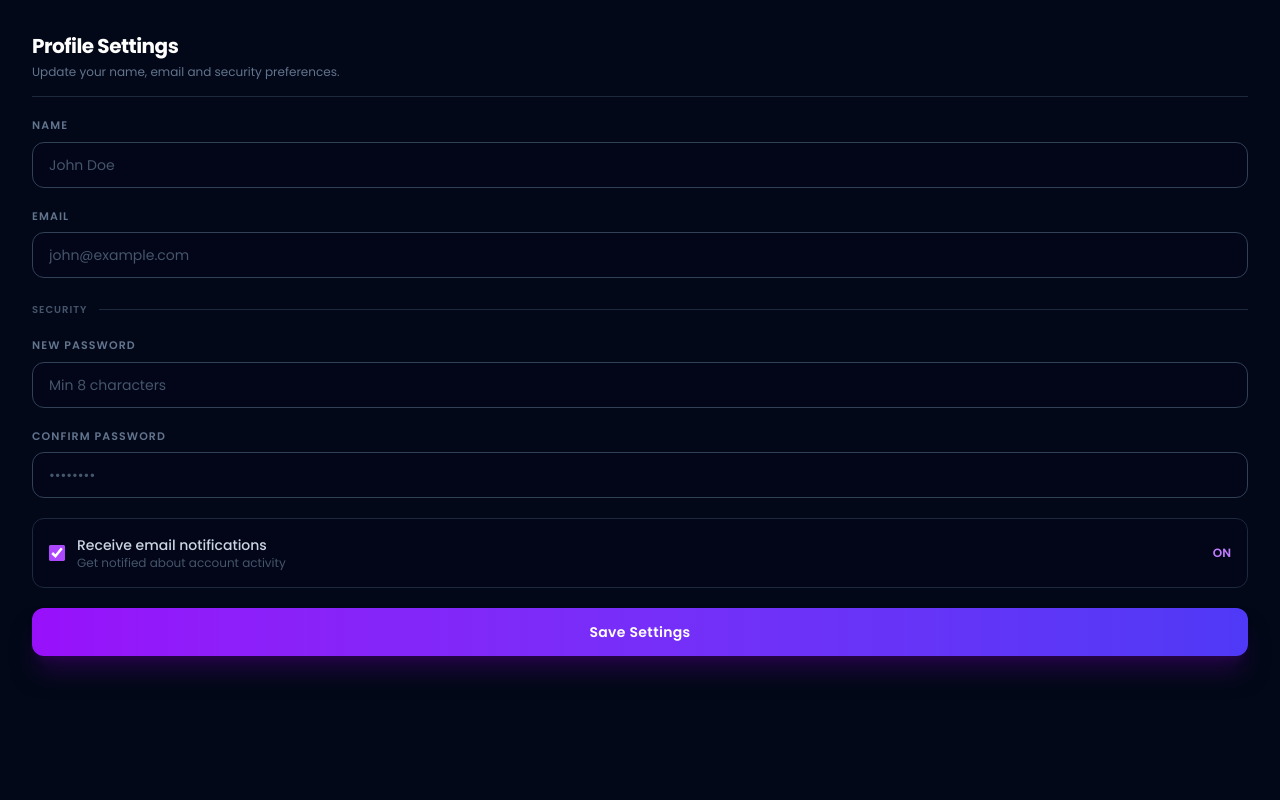
Test case: SettingsForm › rejects mismatched passwords
In the field labelled "Name": (640,164) [32, 142, 1248, 188], type "Hasan"
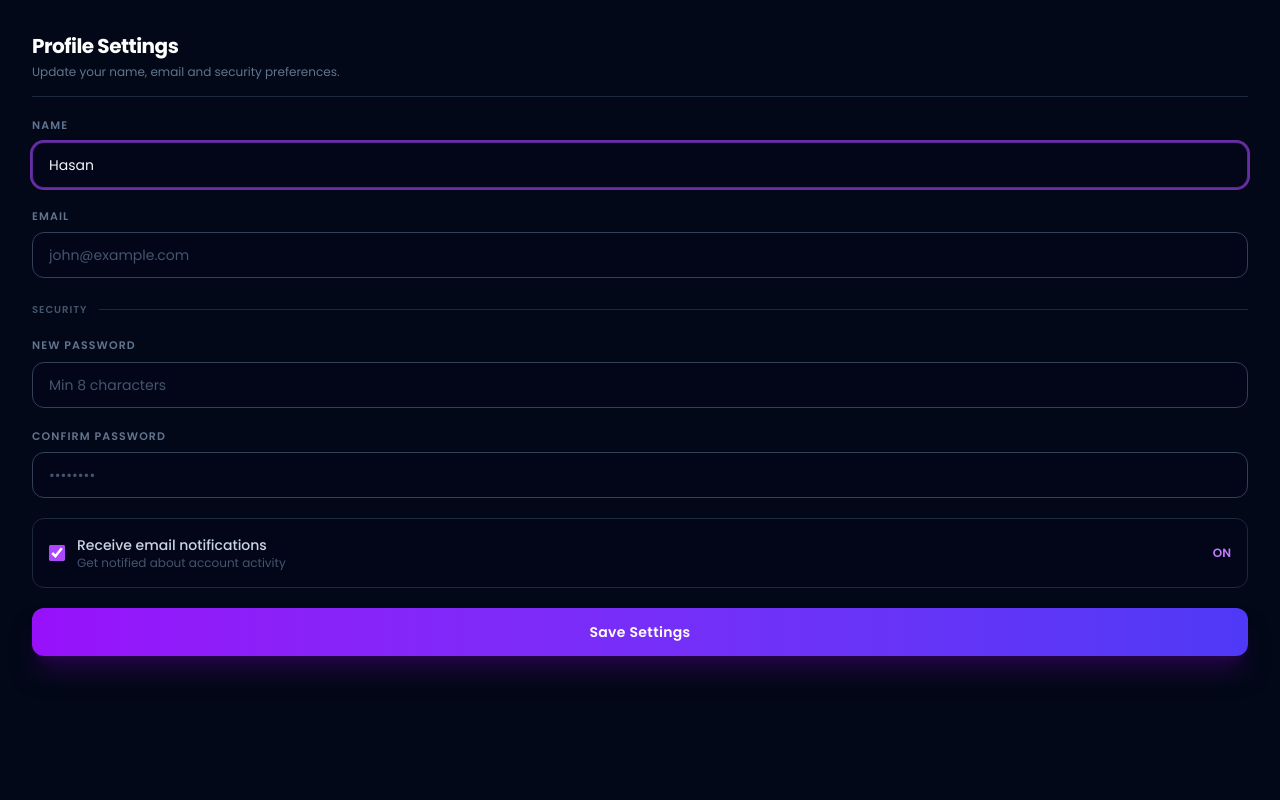
In the field labelled "Email": (640,255) [32, 232, 1248, 278], type "hasan@example.com"
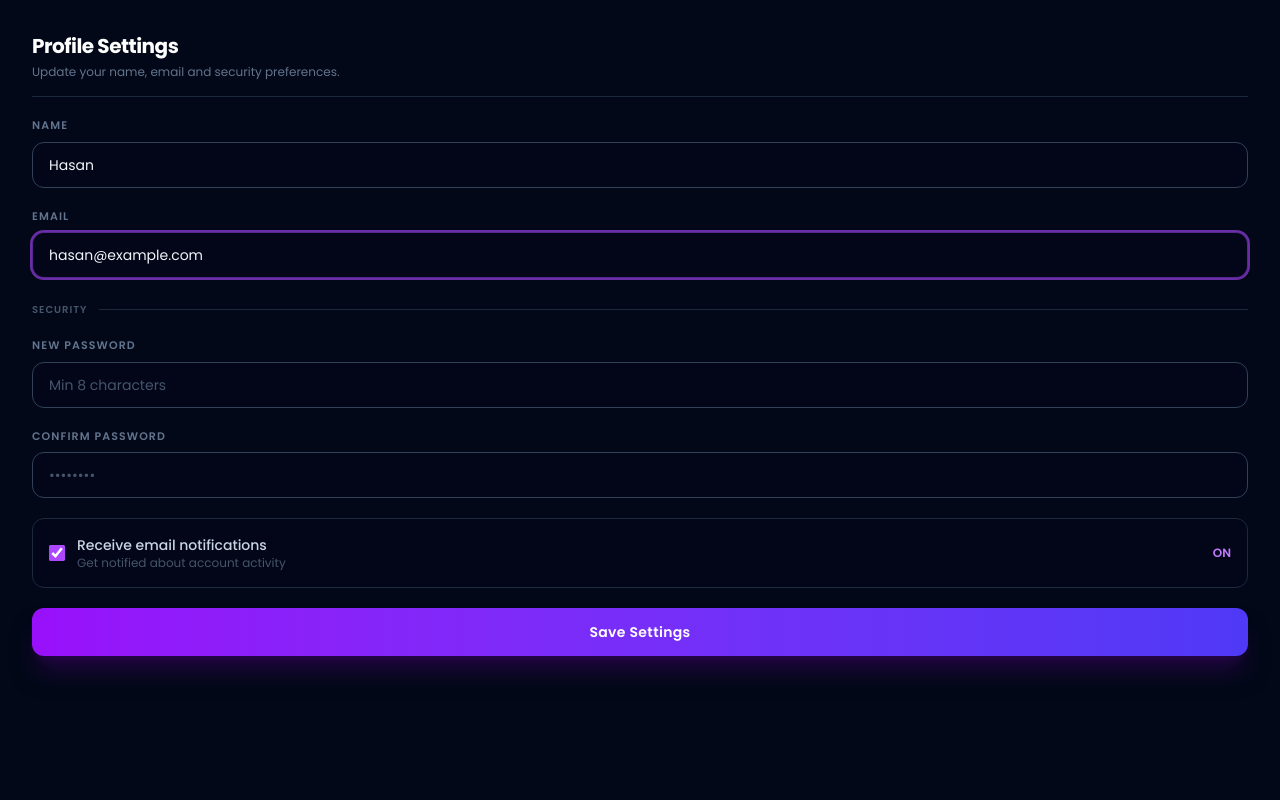
In the password field labelled "New password": (640,384) [32, 362, 1248, 408], type "password123"
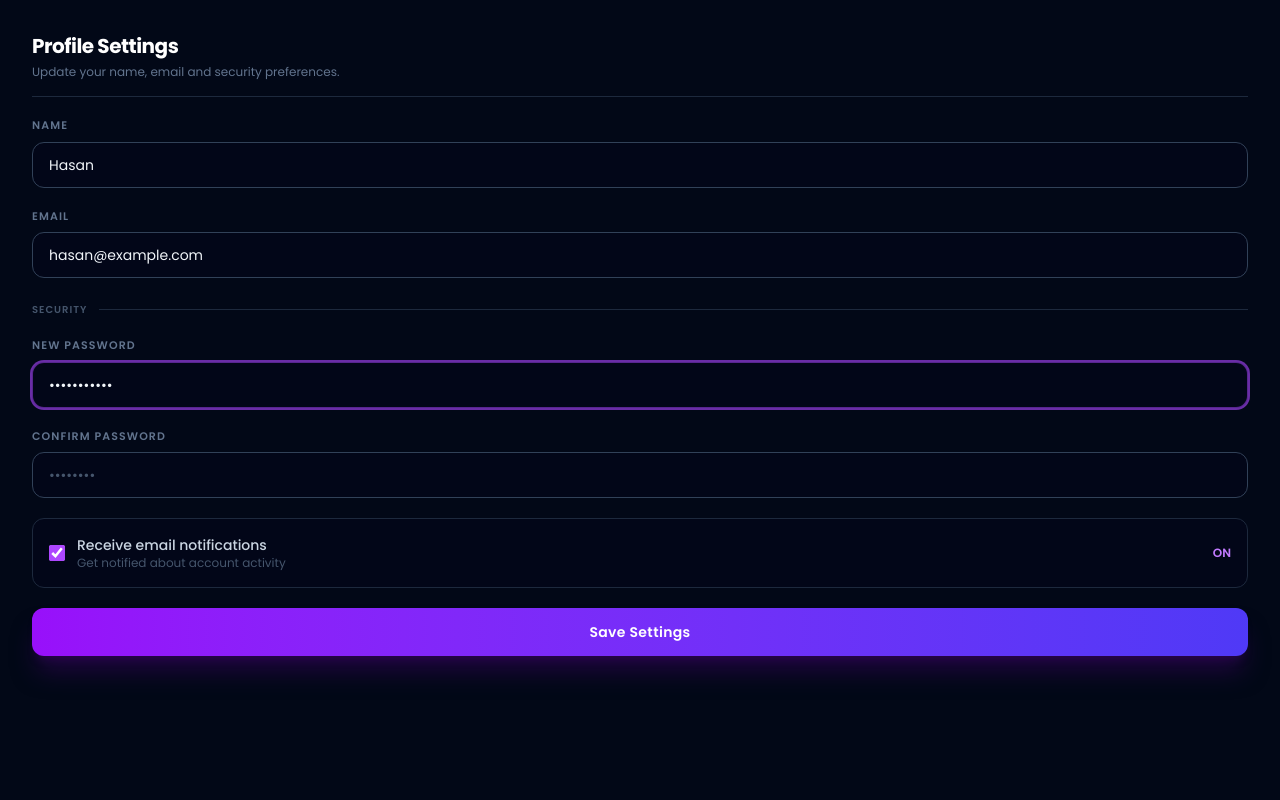
In the password field labelled "Confirm password": (640,475) [32, 452, 1248, 498], type "password124"
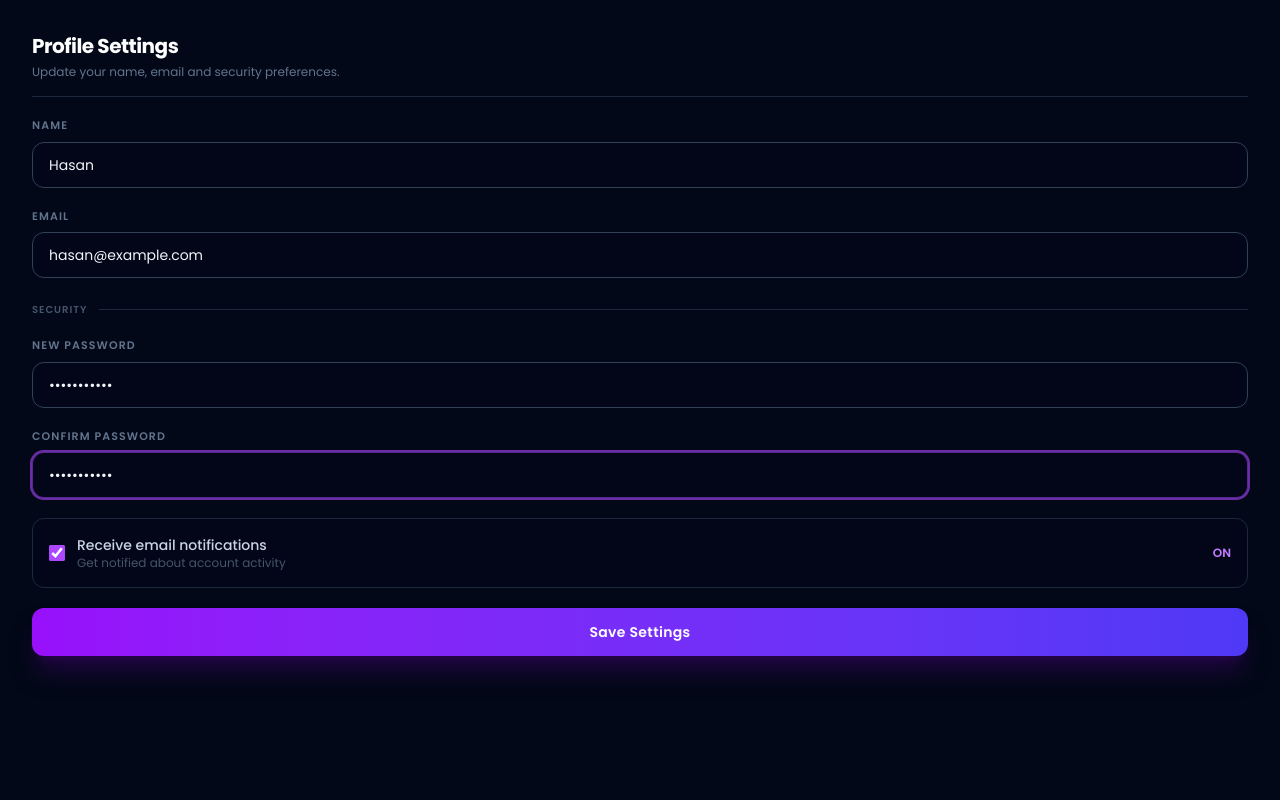
Click the button "Save Settings": (640,632) [32, 608, 1248, 656]
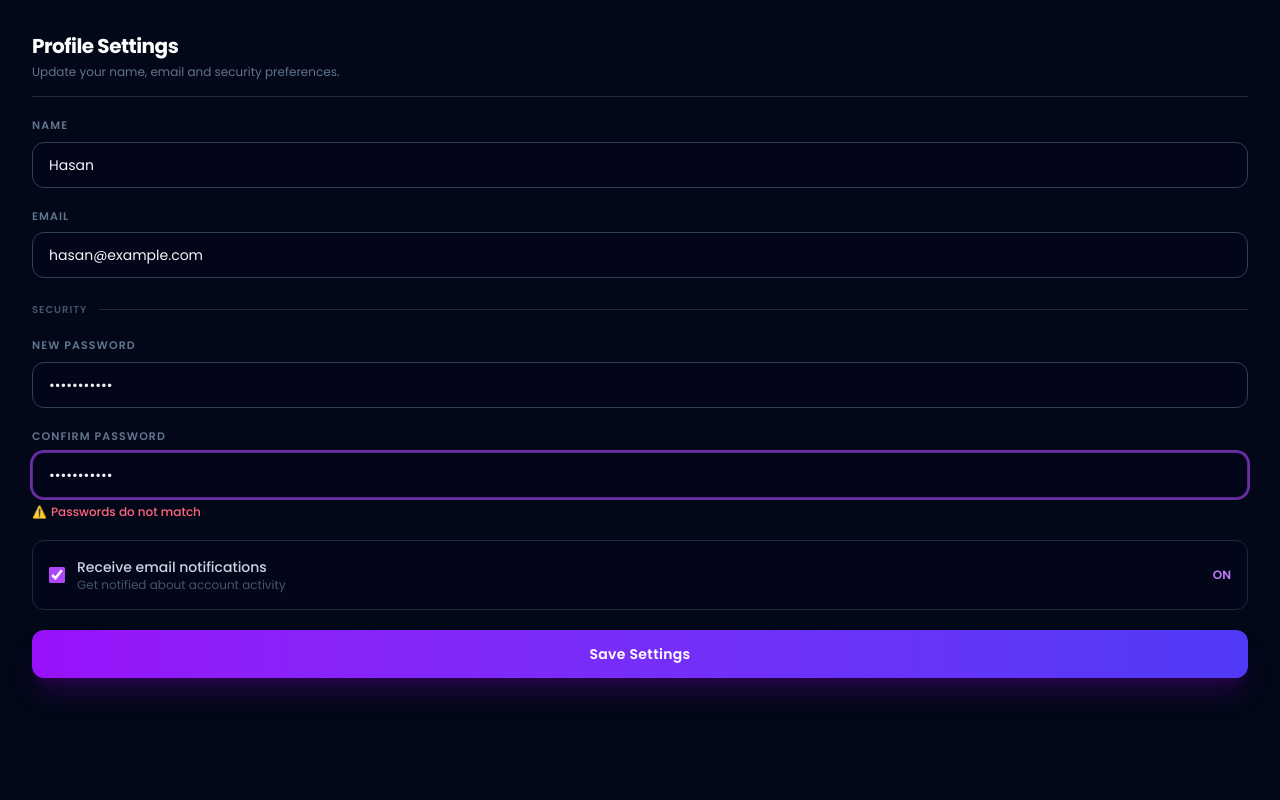
Expected: the text "⚠️ Passwords do not match" is shown, [32, 503, 201, 520]
